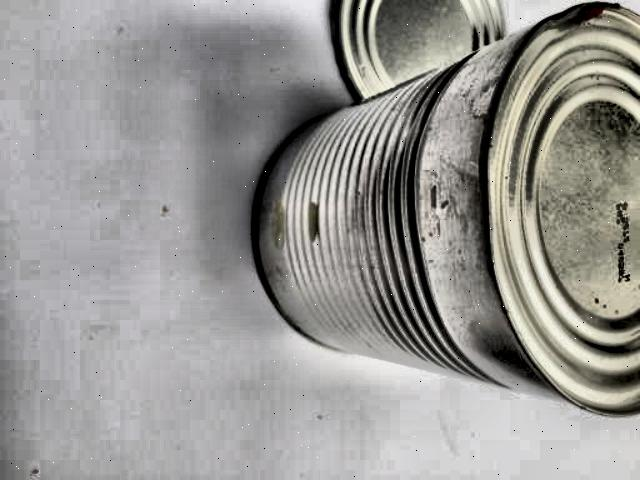Almennt: (452, 21, 640, 442)
